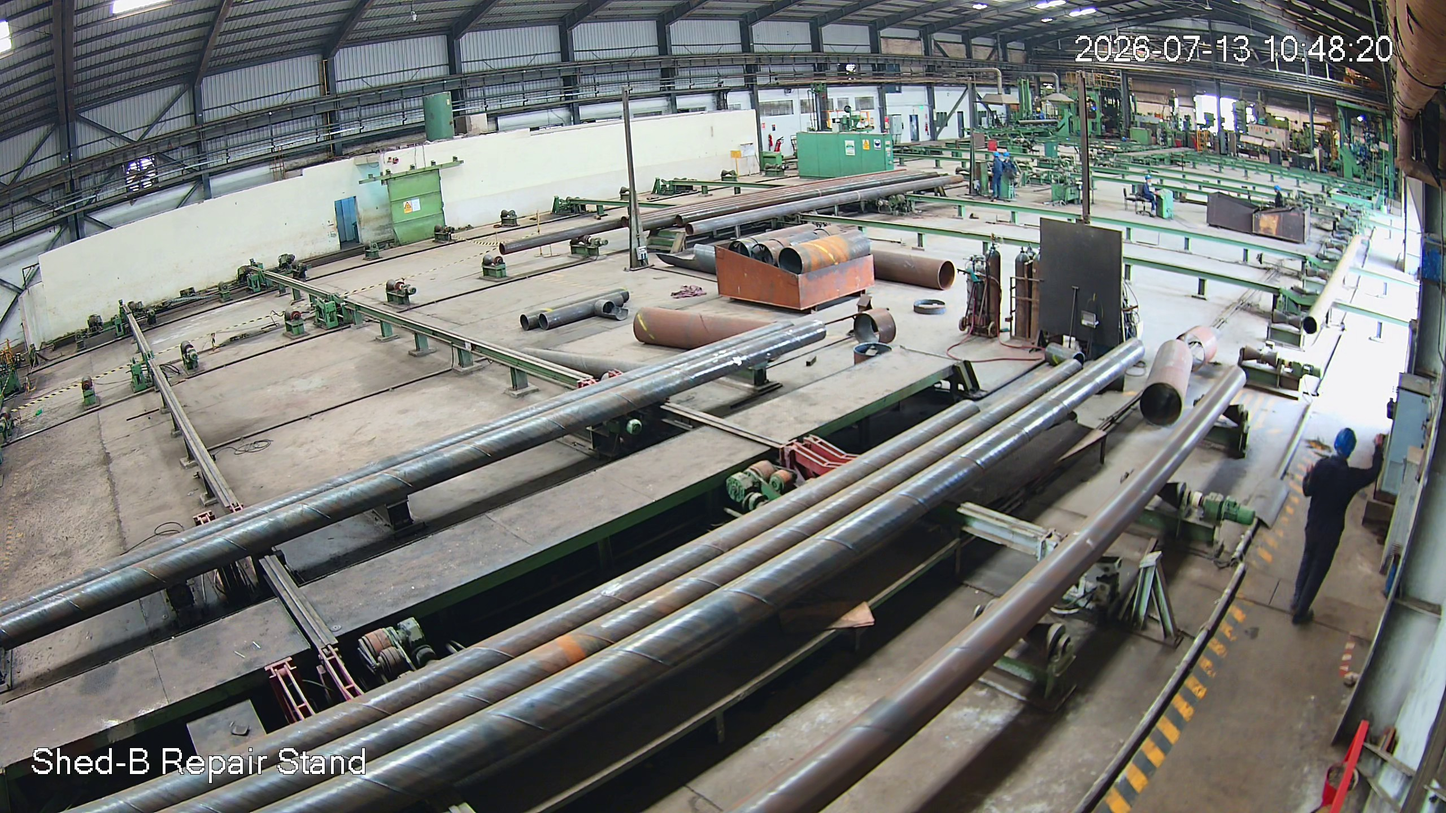Helmet: (1329, 426, 1358, 469)
Person: (1284, 427, 1366, 636)
